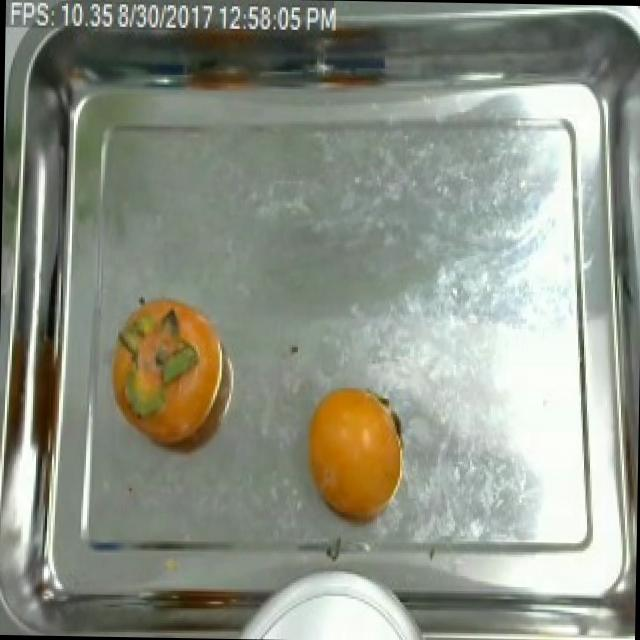Fruit: (108, 287, 232, 465), (290, 372, 417, 540)
